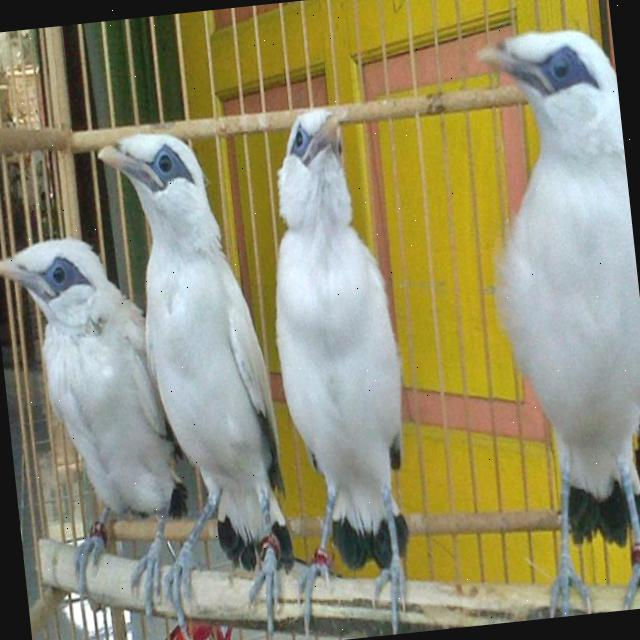Jalak Bali: (86, 94, 304, 638), (457, 0, 640, 620), (251, 87, 429, 640), (0, 202, 182, 633)
